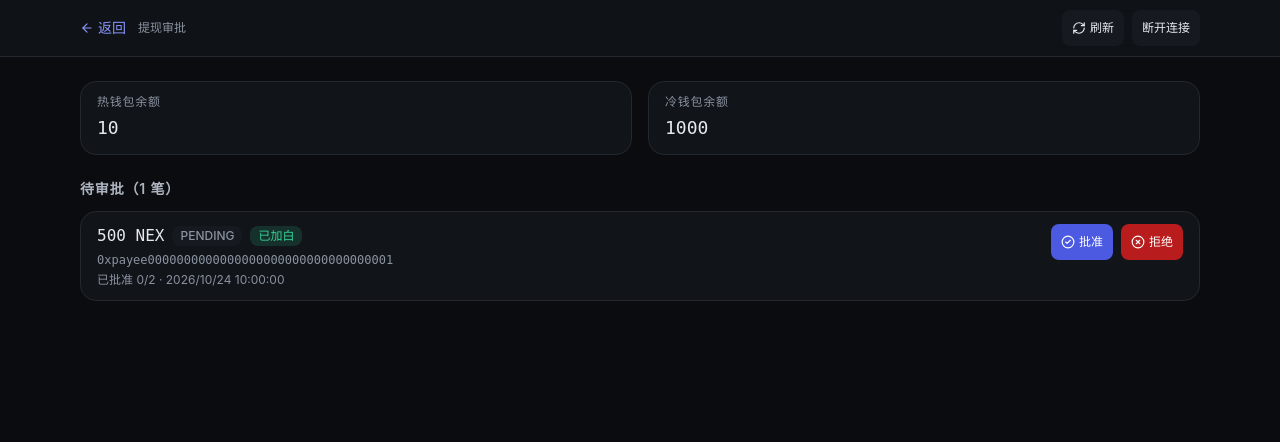
断开连接 › 断开后清空队列并回到连接表单
Click the button "断开连接" at point(1166, 28), box x1=1132 y1=10 x2=1200 y2=46
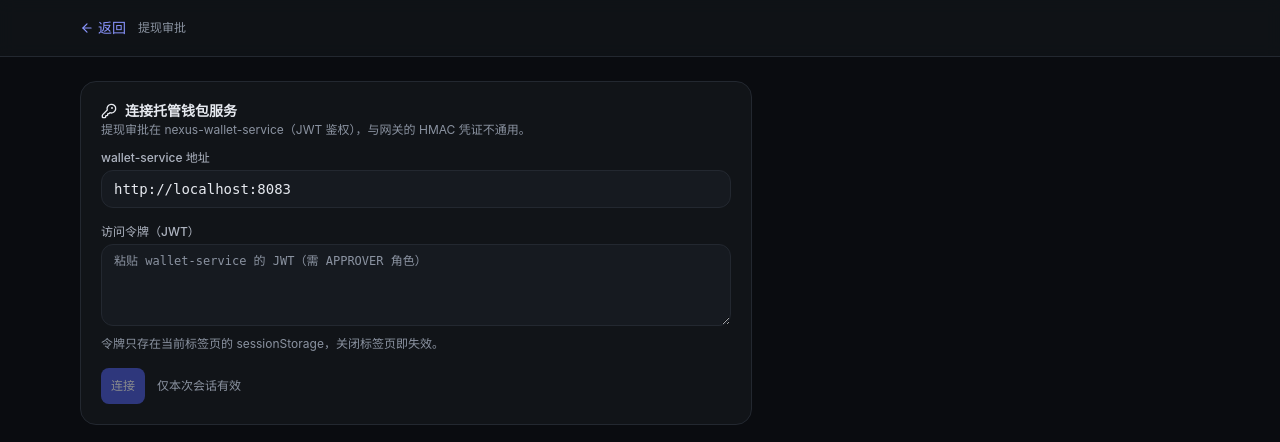
Now the text "连接托管钱包服务" is shown, box x1=101 y1=102 x2=237 y2=119
